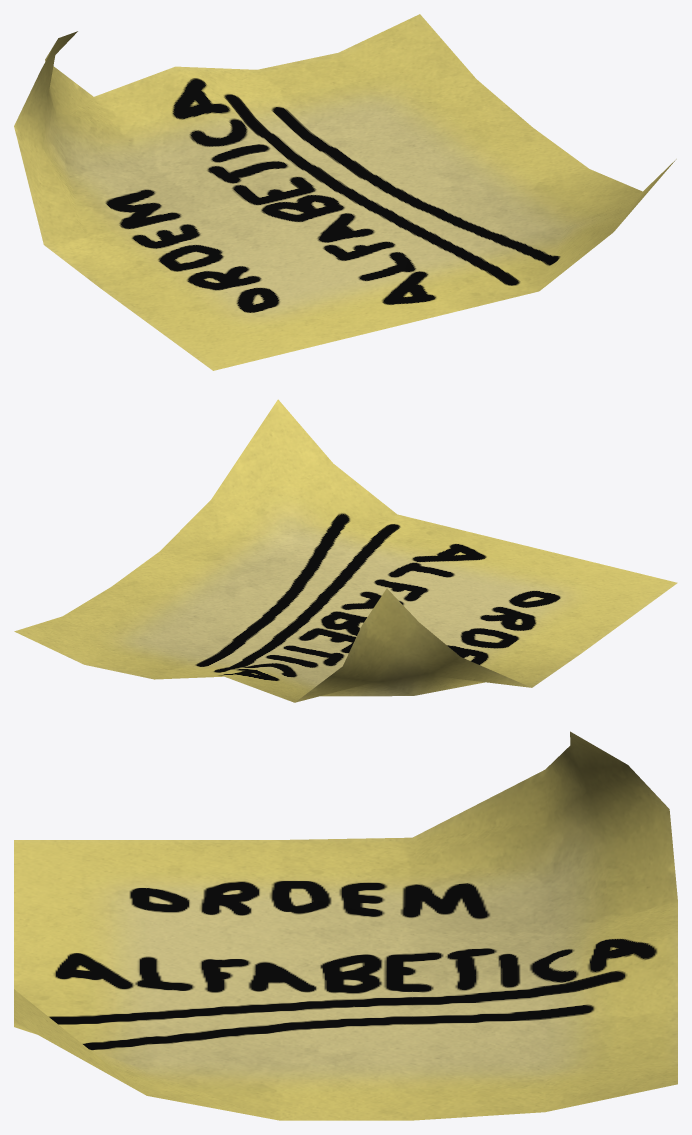
Rendered from postit.glb.
3 renders of one model, top to bottom at view 1: azimuth 30°, elevation 25°; view 2: azimuth 150°, elevation 25°; view 3: azimuth 270°, elevation 25°, orthographic. The views are drawn at different scales.
Parts seen in each view (by area): view 1: SM_post_it_notes.003_5; view 2: SM_post_it_notes.003_5; view 3: SM_post_it_notes.003_5.
Boxes of the visible parts, x1=… form: SM_post_it_notes.003_5: x1=14, y1=14, x2=676, y2=370; SM_post_it_notes.003_5: x1=14, y1=399, x2=677, y2=702; SM_post_it_notes.003_5: x1=14, y1=731, x2=677, y2=1120.
Size of the model in its own units: 0.076 by 0.0211 by 0.076.
1 material, 1 textured.
